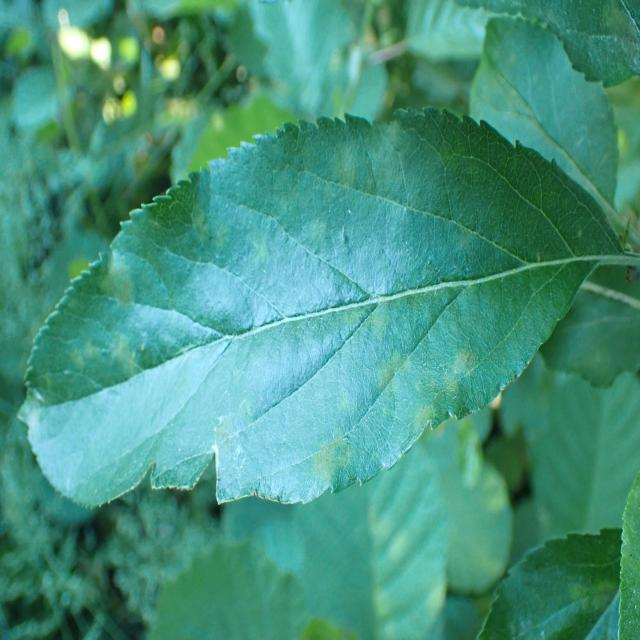scab: (15, 112, 493, 503)
